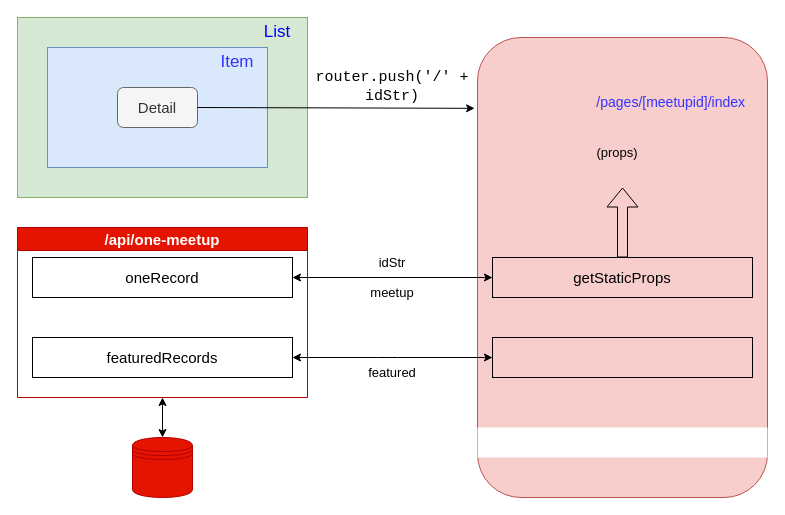
This 785x515 diagram has some shape labels left out. Each missing label, with the box of its shape:
<MeetupDetail meetup={props.meetup}: (477, 427, 767, 457)
getStaticPaths: (492, 336, 752, 378)
mongo: (132, 436, 192, 498)
